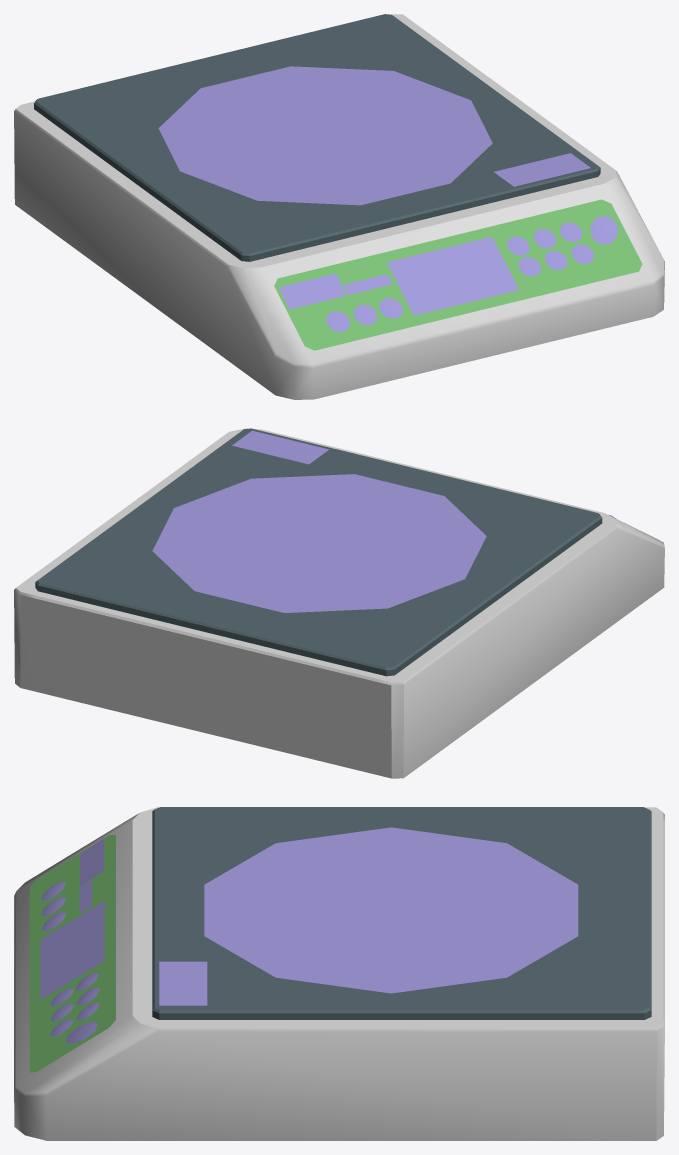
File: SPTSR1626DL.FBX
3 renders of one model, top to bottom at view 1: azimuth 30°, elevation 25°; view 2: azimuth 150°, elevation 25°; view 3: azimuth 270°, elevation 25°, orthographic. The views are drawn at different scales.
Parts seen in each view (by area): view 1: SPTSR1626DL; view 2: SPTSR1626DL; view 3: SPTSR1626DL.
Boxes of the visible parts, x1=… form: SPTSR1626DL: x1=14, y1=14, x2=664, y2=399; SPTSR1626DL: x1=14, y1=428, x2=664, y2=778; SPTSR1626DL: x1=14, y1=807, x2=664, y2=1140.
Size of the model in its own units: 864 by 229 by 1067.
